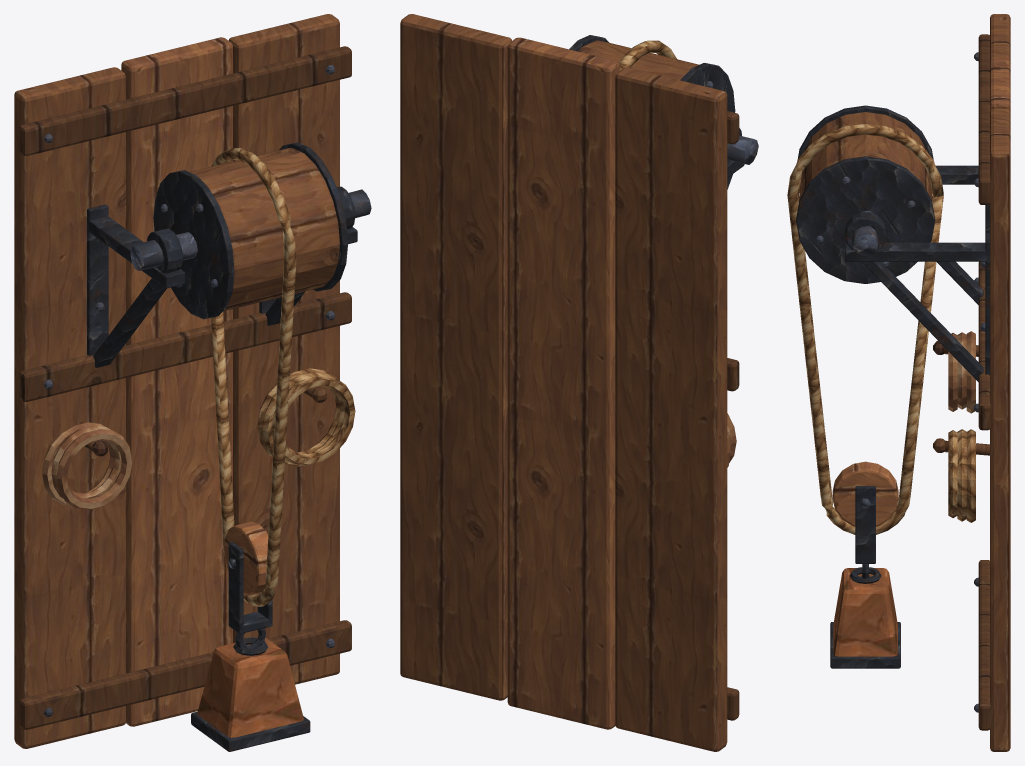
Rendered from hw_belt_pulley_wall.glb.
3 views of the same model, side by side, from view 1: azimuth 30°, elevation 25°; view 2: azimuth 150°, elevation 25°; view 3: azimuth 270°, elevation 25° (orthographic). The views are drawn at different scales.
Parts seen in each view (by area): view 1: model; view 2: model; view 3: model.
Part boxes in pixels (x1,y1,x2,y2): model: (14,14,371,751); model: (400,14,758,751); model: (787,14,1010,751).
Size of the model in its own units: 0.84 by 1.61 by 0.5389.
9 materials, 9 textured.
